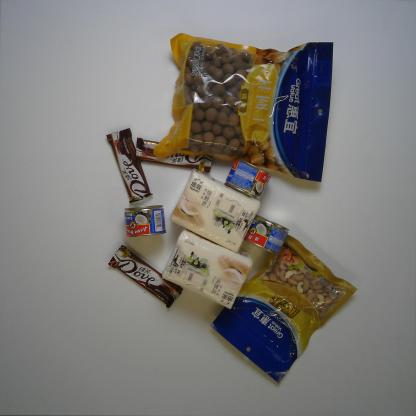Canned Food: (223, 158, 272, 202), (245, 214, 290, 256), (125, 203, 168, 239)
Chocolate: (107, 244, 184, 312), (106, 126, 153, 204), (134, 137, 214, 175)
Dried Food: (148, 32, 336, 184)
Dried Fruit: (208, 233, 359, 385)
Tissue: (170, 169, 262, 254), (160, 228, 254, 311)
